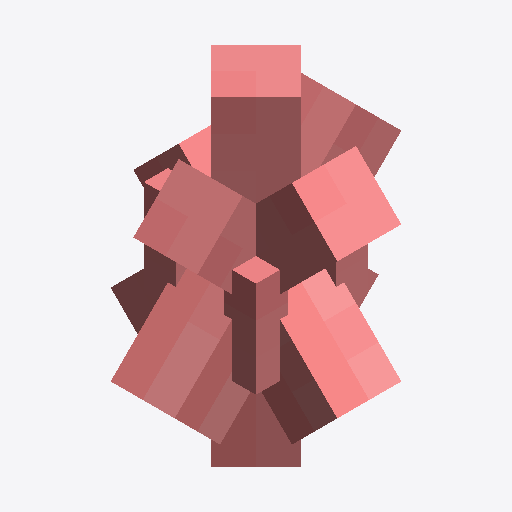
A Minecraft block model of 11 cuboids, rendered isometrically (azimuth 45°, elevation 35.3°) with the resource pack's own textures.
Parts seen in each view (by area): element 4, element 7, element 1, element 3, element 6, element 8, element 9, element 2, element 11.
Boxes of the visible parts, x1,y1,x2,y2 form: element 4: [111, 73, 400, 443]; element 7: [211, 45, 300, 466]; element 1: [134, 125, 400, 443]; element 3: [256, 146, 400, 293]; element 6: [133, 159, 255, 293]; element 8: [224, 256, 287, 393]; element 9: [144, 168, 186, 299]; element 2: [111, 269, 156, 333]; element 11: [325, 244, 367, 299].
Bounding box in the file's own units: 7.07 × 10 × 7.07.